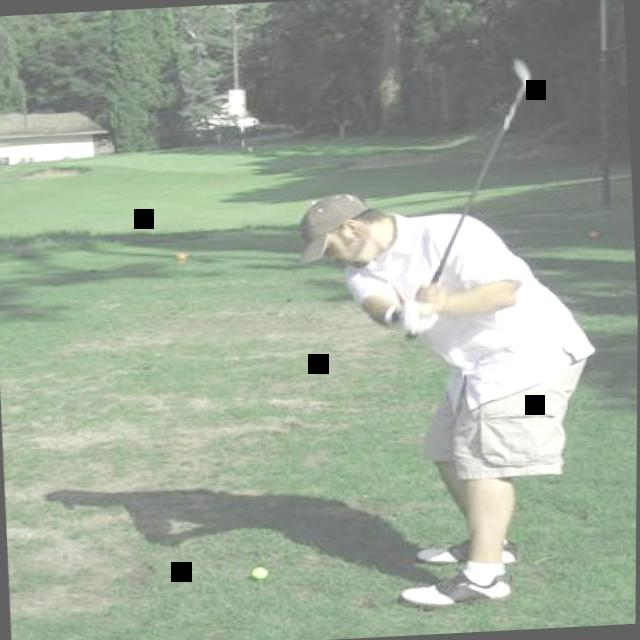golf ball: (249, 566, 273, 582)
